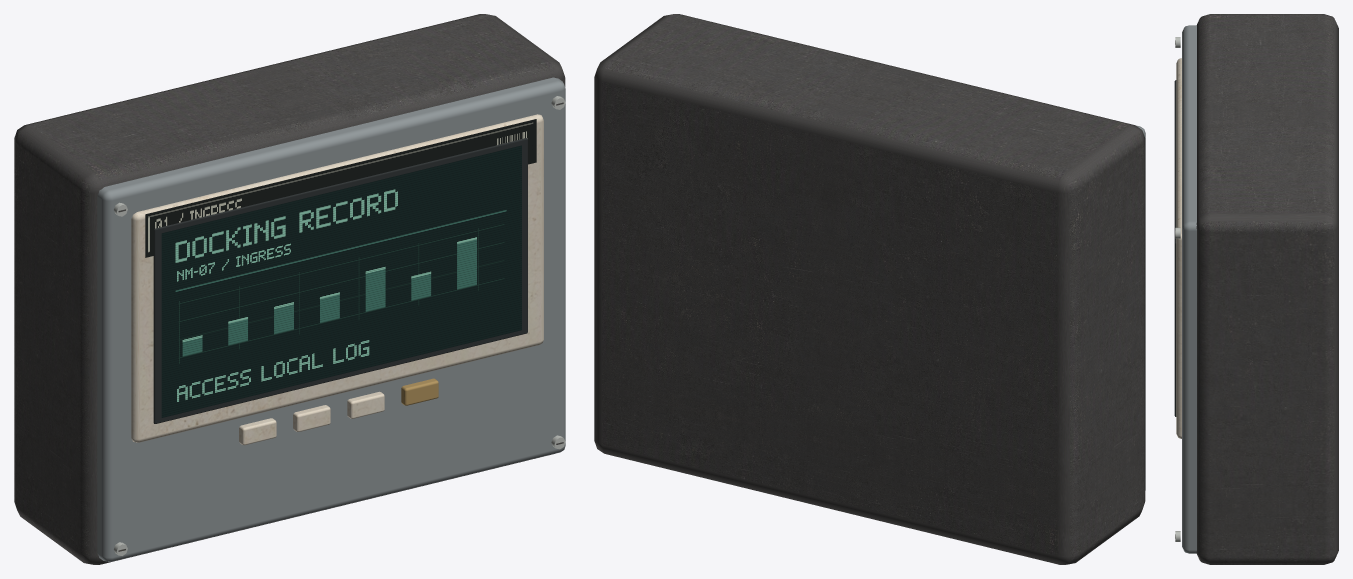
File: arrival-terminal.glb
3 views of the same model, side by side, from view 1: azimuth 30°, elevation 25°; view 2: azimuth 150°, elevation 25°; view 3: azimuth 270°, elevation 25° (orthographic). The views are drawn at different scales.
Parts seen in each view (by area): view 1: wall-housing; view 2: wall-housing; view 3: wall-housing.
Boxes of the visible parts, x1,y1,x2,y2 form: wall-housing: [14, 14, 565, 564]; wall-housing: [594, 14, 1145, 564]; wall-housing: [1174, 14, 1338, 564].
Bounding box in the file's own units: 0.94 × 0.73 × 0.31.
Materials: 8 (4 with a texture image).
